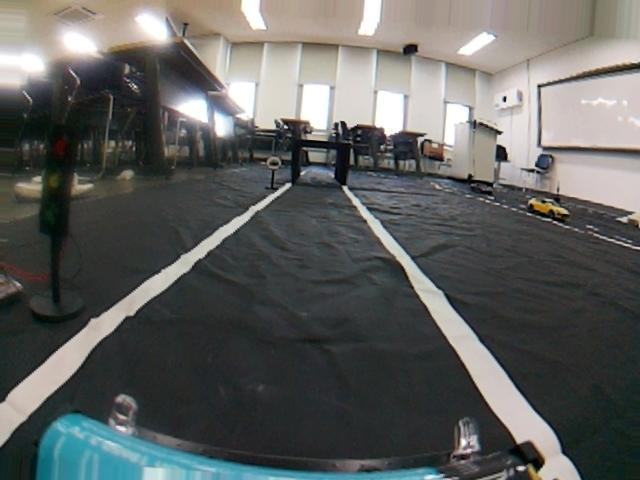straight: (5, 280, 639, 475)
yellow_light: (36, 125, 86, 241)
